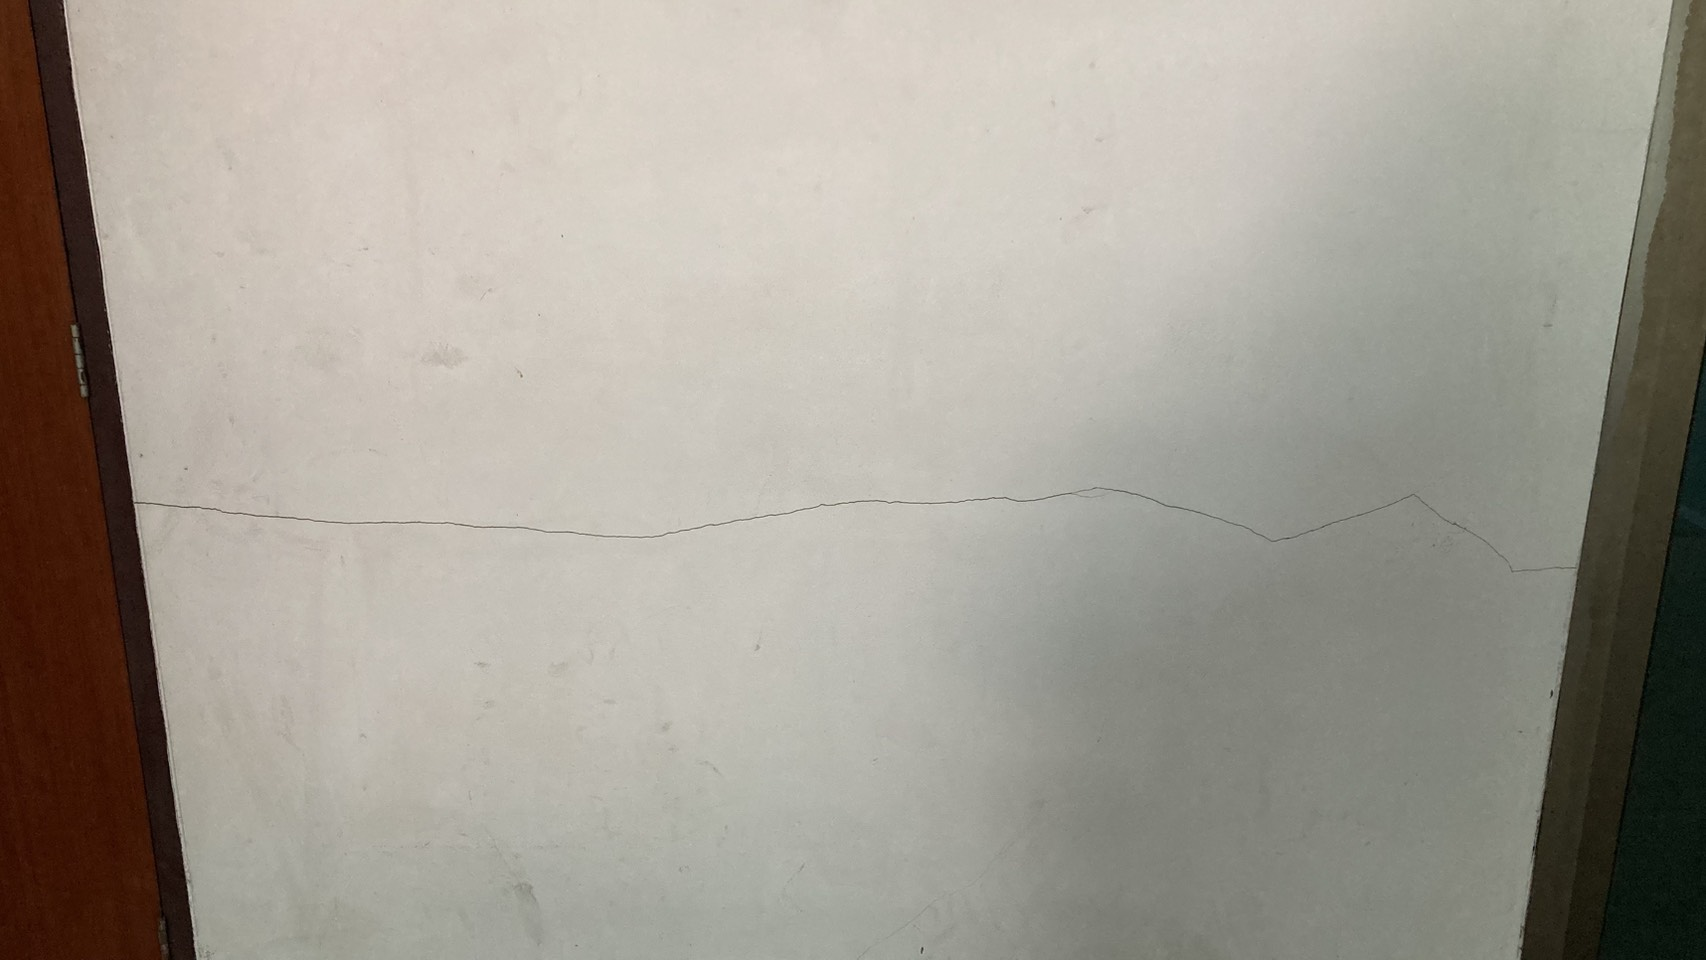Low: (125, 435, 1594, 626)
